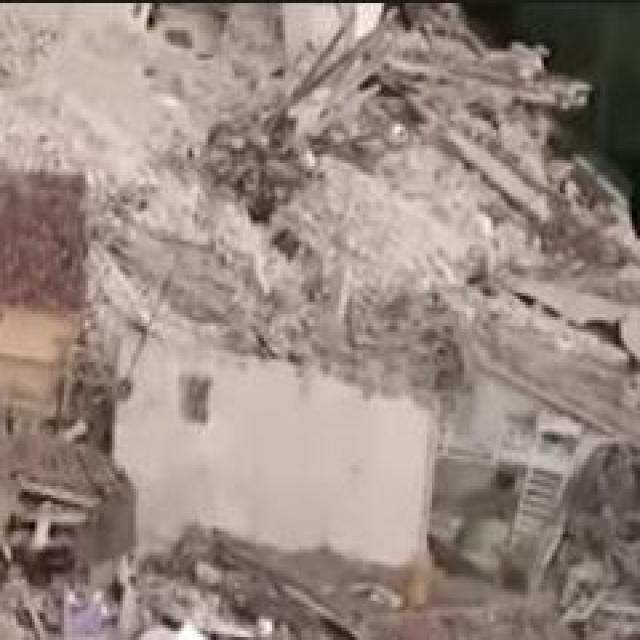collapsed_building: (61, 64, 584, 368)
